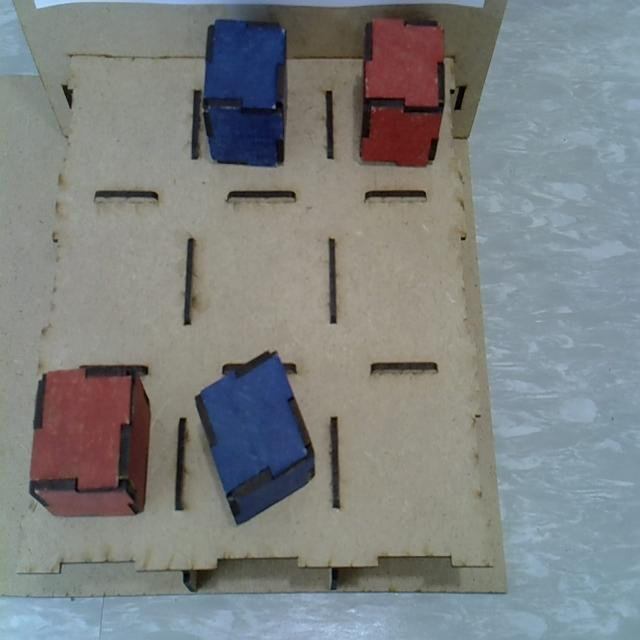blue_box: (193, 349, 316, 526), (202, 19, 289, 168)
red_box: (29, 366, 150, 516), (360, 18, 444, 166)
